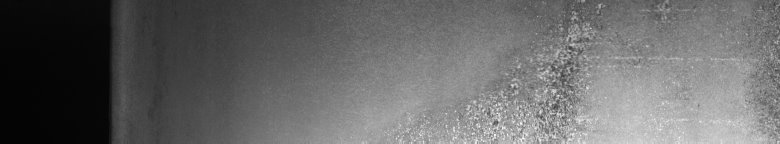hc: (468, 4, 678, 136)
